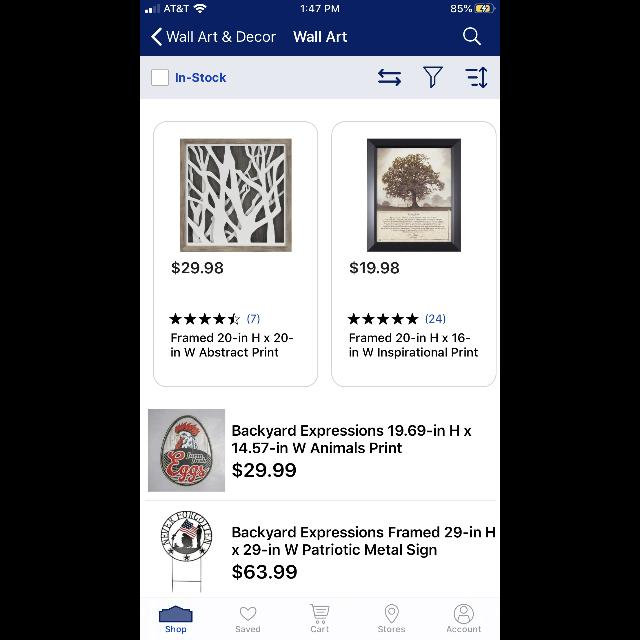checkbox: (152, 68, 168, 86)
icon: (170, 313, 240, 325), (348, 314, 418, 324), (466, 67, 488, 89), (310, 604, 330, 624), (454, 604, 474, 624), (379, 70, 401, 86), (464, 28, 481, 46), (385, 604, 399, 624), (240, 607, 256, 621), (152, 28, 162, 46)
image: (180, 138, 292, 252), (368, 138, 460, 252), (149, 409, 225, 491), (162, 511, 212, 593), (160, 606, 192, 622), (423, 67, 443, 89)
text: (233, 526, 495, 558), (233, 424, 472, 454), (350, 333, 478, 359), (171, 333, 293, 357), (167, 32, 276, 42), (232, 462, 296, 478), (233, 564, 297, 580), (172, 262, 224, 274), (350, 262, 400, 274), (294, 32, 346, 42), (176, 74, 226, 82), (447, 626, 481, 632), (426, 315, 446, 325), (166, 626, 187, 634), (378, 626, 406, 632), (236, 626, 260, 632), (248, 314, 260, 324), (311, 626, 329, 632)
uppertaskbar: (140, 0, 500, 14)
